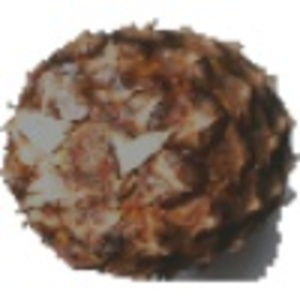abacaxi: (3, 15, 291, 275)
